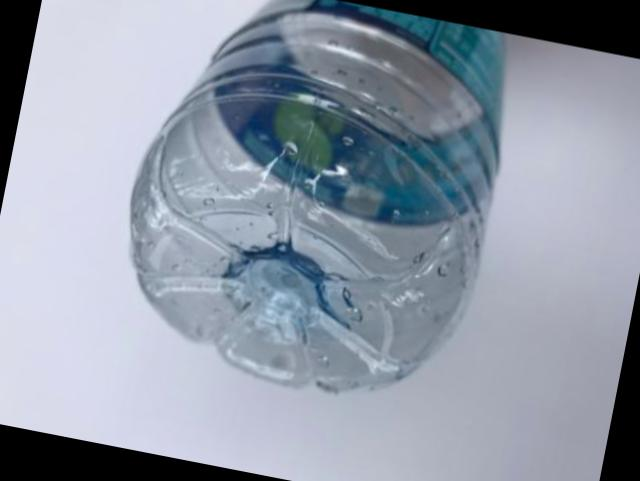plastic: (129, 0, 501, 392)
